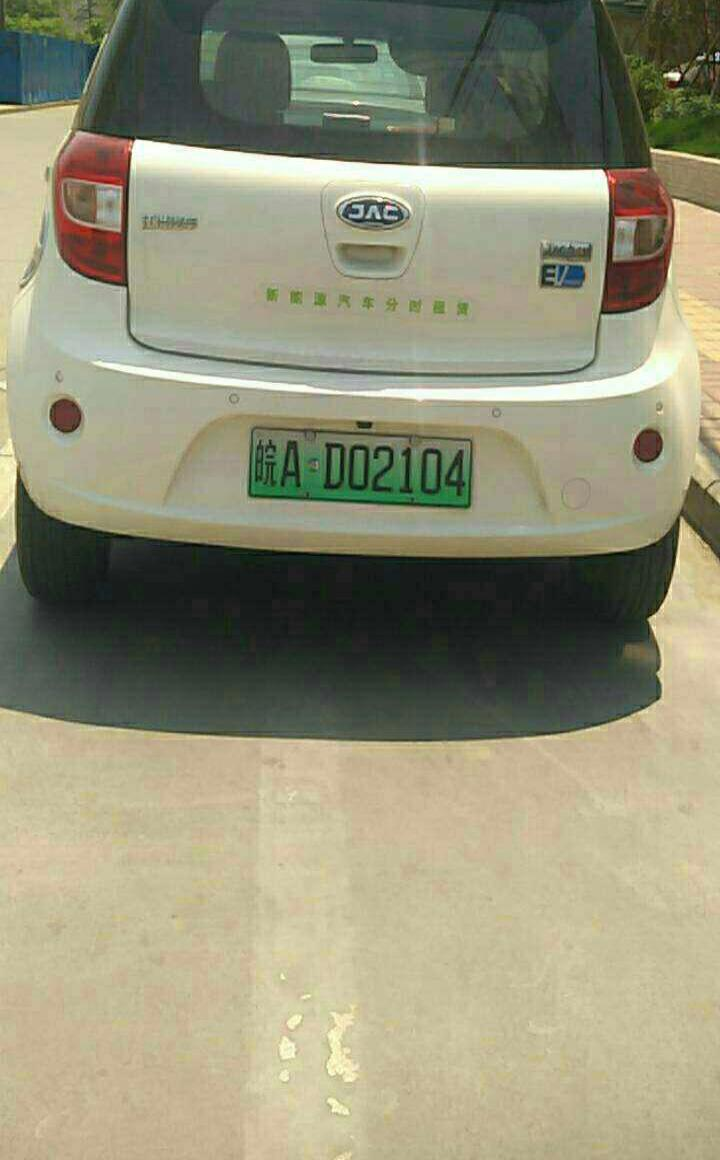car: (246, 425, 484, 504)
